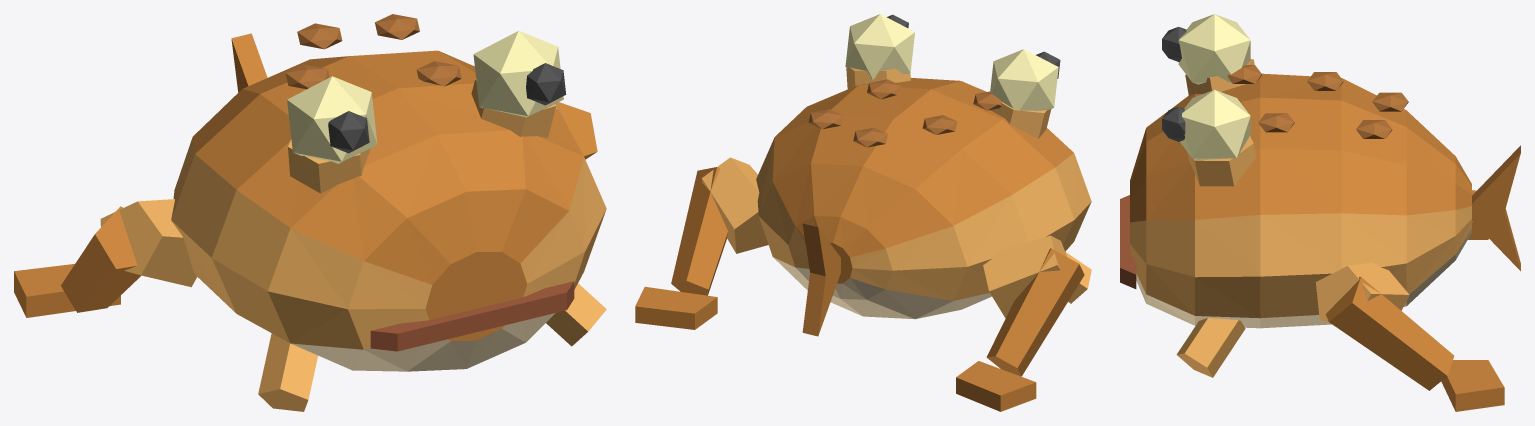
File: Hopper.fbx
3 views of the same model, side by side, from view 1: azimuth 30°, elevation 25°; view 2: azimuth 150°, elevation 25°; view 3: azimuth 270°, elevation 25° (orthographic). The views are drawn at different scales.
Visible parts, largest first — view 1: Hopper; view 2: Hopper; view 3: Hopper.
Part boxes in pixels (bbox=[...]): Hopper: bbox=[14, 14, 606, 411]; Hopper: bbox=[635, 14, 1091, 411]; Hopper: bbox=[1120, 14, 1520, 411].
Size of the model in its own units: 30 by 17.86 by 24.6.
